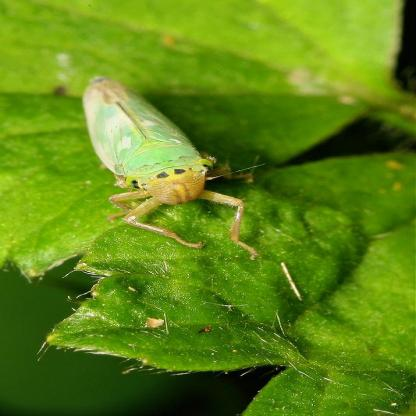Green-Leafhopper: (70, 74, 273, 259)
